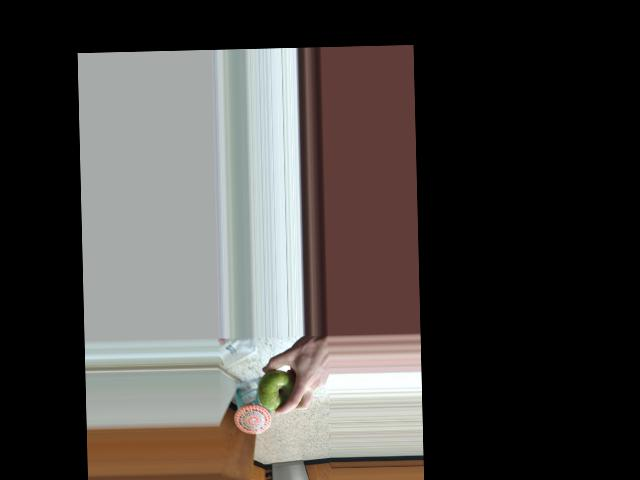apple: (256, 367, 300, 413)
